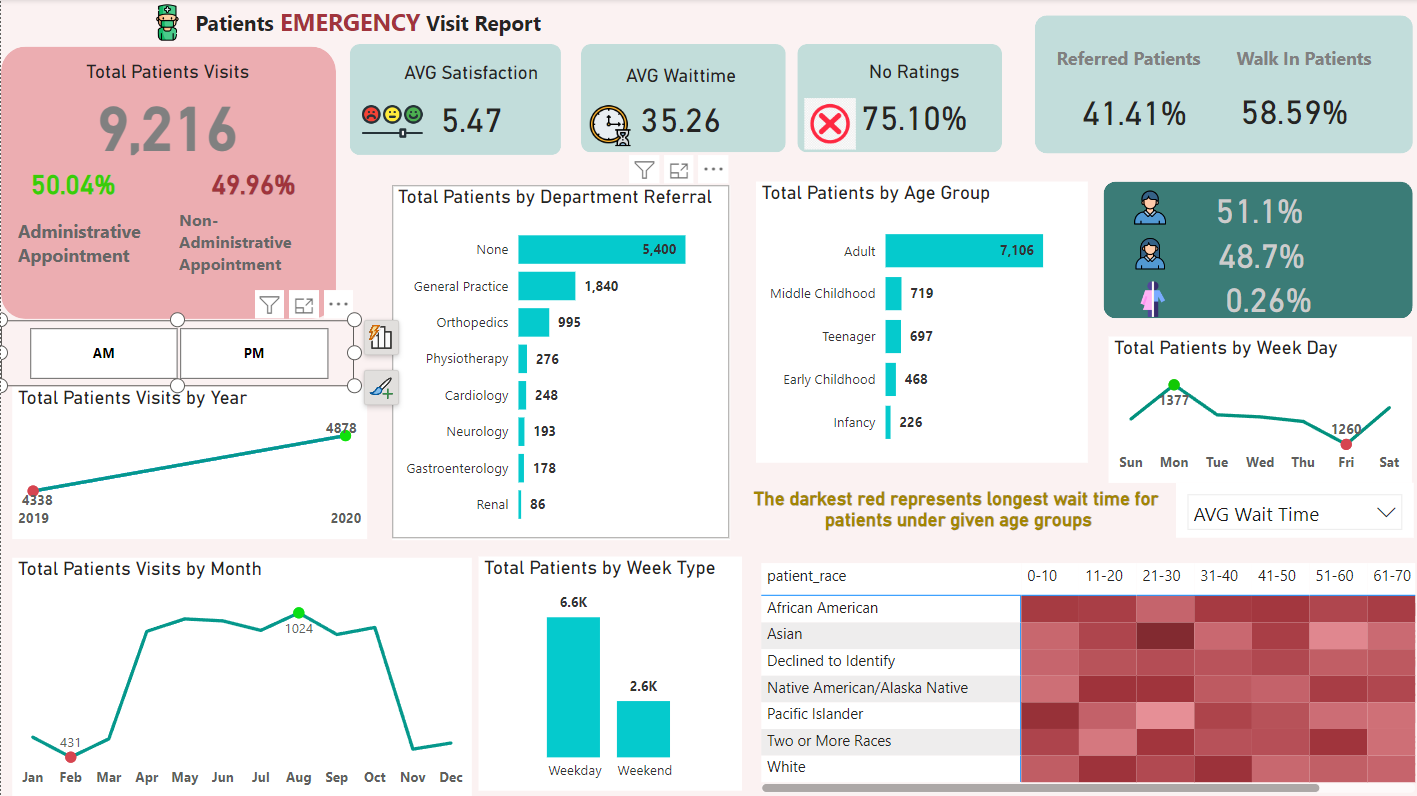

This screenshot's page, from the dashboard's own definition file:
{"tool":"powerbi","page":{"name":"Page 1","canvas":[1280,720],"ordinal":0},"visuals":[{"type":"shape","box":[0,42.8,302,245.8],"z":0},{"type":"shape","box":[931.8,14.7,341.2,124.7],"z":1000},{"type":"shape","box":[314.3,40.4,190.8,100.3],"z":2000},{"type":"shape","box":[523.4,40.4,184.6,97.8],"z":3000},{"type":"shape","box":[717.8,40.4,184.6,97.8],"z":4000},{"type":"card","title":"Total Patients Visits","fields":{"Values":["Calculations.Total Patients"]},"box":[9.8,55,280,90.5],"z":5000},{"type":"card","fields":{"Values":["Calculations.Administrative Appointment"]},"box":[0,137,129.6,58.7],"z":6000},{"type":"pivotTable","fields":{"Values":["Calculations.AVG Wait Time"],"Rows":["Hospital ER.patient_race"],"Columns":["Hospital ER.Age Bracket"]},"box":[680.6,503.6,599.7,216.8],"z":7000},{"type":"slicer","fields":{"Values":["Parameter.Parameter"]},"box":[1059.4,436.4,214.1,49.4],"z":8000},{"type":"clusteredBarChart","title":"Total Patients by Department Referral","fields":{"Y":["Calculations.Total Patients"],"Category":["Hospital ER.department_referral"]},"box":[352.7,167.4,304.6,319.7],"z":9000},{"type":"clusteredBarChart","fields":{"Category":["Hospital ER.Age Group"],"Y":["Calculations.Total Patients"]},"box":[680.6,164.7,299.1,253.9],"z":10000},{"type":"lineChart","title":"Total Patients Visits by Month","fields":{"Category":["Date Table.Month"],"Y":["Calculations.Total Patients","Calculations.Values Max/Min Points (Month)"]},"box":[9.6,503.6,414.4,216.8],"z":11000},{"type":"card","title":"AVG Satisfaction","fields":{"Values":["Calculations.AVG Satisfaction"]},"box":[329.3,56.3,189.4,83.7],"z":12000,"group":"g1"},{"type":"lineChart","title":"Total Patients Visits by Year","fields":{"Y":["Calculations.Total Patients","Calculations.Values Max/Min Points (Year)"],"Category":["Date Table.Year"]},"box":[9.6,349.9,319.7,137.2],"z":12000},{"type":"card","title":"AVG Waittime","fields":{"Values":["Calculations.AVG Wait Time"]},"box":[518.7,59,189.4,78.2],"z":13000,"group":"g2"},{"type":"card","fields":{"Values":["Calculations.HeatMap Caption"]},"box":[647.7,418.5,430.9,83.7],"z":13000},{"type":"card","title":"No Ratings","fields":{"Values":["Calculations.Service not rated"]},"box":[727.8,55.7,190.8,81.9],"z":14000,"group":"g3"},{"type":"card","fields":{"Values":["Calculations.Non-Administrative Appointment"]},"box":[176.1,137,103.9,58.7],"z":14000},{"type":"image","box":[314.2,68.6,76.8,83.7],"z":15000,"group":"g1"},{"type":"textbox","box":[9.8,193.2,129.6,62.4],"z":15000},{"type":"image","box":[518.7,89.2,61.7,50.8],"z":16000,"group":"g2"},{"type":"textbox","box":[155.3,183.4,146.7,72.1],"z":16000},{"type":"textbox","box":[946.8,37,152.3,41.2],"z":17000},{"type":"image","box":[717.8,84.9,59,56.3],"z":17000,"group":"g3"},{"type":"card","fields":{"Values":["Calculations.Referred Patients"]},"box":[966,75.5,112.5,52.1],"z":18000},{"type":"textbox","box":[1108.8,37,142.7,41.2],"z":19000},{"type":"card","fields":{"Values":["Calculations.Walk In Patients"]},"box":[1108.8,71.4,113.9,59],"z":20000},{"type":"columnChart","fields":{"Y":["Calculations.Total Patients"],"Category":["Date Table.Week Type"]},"box":[430.9,502.2,237.4,211.3],"z":21000},{"type":"slicer","fields":{"Values":["Hospital ER.Moment"]},"box":[0,289.8,319.2,59.9],"z":22000},{"type":"group","id":"g1","title":"Group 1","box":[314.2,56.3,204.5,96.1],"z":23000},{"type":"group","id":"g2","title":"Group 2","box":[518.7,59,189.4,81],"z":24000},{"type":"group","id":"g3","title":"Group 3","box":[717.8,55.7,200.8,85.5],"z":25000},{"type":"image","box":[0,0,299.6,42.8],"z":26000},{"type":"textbox","box":[170,1.2,379.1,41.6],"z":27000},{"type":"shape","box":[994.2,165.1,278.8,123.5],"z":28000},{"type":"image","box":[994.2,166.3,84.4,42.8],"z":29000},{"type":"image","box":[999.1,209.1,75.8,40.4],"z":30000},{"type":"image","box":[1017.4,249.5,41.6,42.8],"z":31000},{"type":"card","fields":{"Values":["Calculations.Male %"]},"box":[1076.1,168.8,116.2,40.4],"z":32000},{"type":"card","fields":{"Values":["Calculations.Female %"]},"box":[1078.5,209.1,116.2,41.6],"z":33000},{"type":"card","fields":{"Values":["Calculations.Gender Unknown"]},"box":[1090.8,247,103.9,45.2],"z":34000},{"type":"lineChart","title":"Total Patients by Week Day","fields":{"Category":["Date Table.Week Day"],"Y":["Calculations.Total Patients","Calculations.Values Max/Min Points (day)"]},"box":[999.1,304.5,273.9,132.1],"z":35000}]}

Visuals, with their boxes in screenshot pixels (x1, y1, x2, y2), scaled from the page's 1280x720 canvas onto the 1417x796 screenshot:
shape: <bbox>0, 47, 334, 319</bbox>
shape: <bbox>1032, 16, 1409, 154</bbox>
shape: <bbox>348, 45, 559, 156</bbox>
shape: <bbox>579, 45, 784, 153</bbox>
shape: <bbox>795, 45, 999, 153</bbox>
"Total Patients Visits" card: <bbox>11, 61, 321, 161</bbox>
card - Calculations.Administrative Appointment: <bbox>0, 151, 143, 216</bbox>
pivotTable - Calculations.AVG Wait Time x Hospital ER.patient_race: <bbox>753, 557, 1416, 795</bbox>
slicer - Parameter.Parameter: <bbox>1173, 482, 1410, 537</bbox>
"Total Patients by Department Referral" clusteredBarChart: <bbox>390, 185, 728, 539</bbox>
clusteredBarChart - Hospital ER.Age Group x Calculations.Total Patients: <bbox>753, 182, 1085, 463</bbox>
"Total Patients Visits by Month" lineChart: <bbox>11, 557, 469, 795</bbox>
"AVG Satisfaction" card: <bbox>365, 62, 574, 155</bbox>
"Total Patients Visits by Year" lineChart: <bbox>11, 387, 365, 539</bbox>
"AVG Waittime" card: <bbox>574, 65, 784, 152</bbox>
card - Calculations.HeatMap Caption: <bbox>717, 463, 1194, 555</bbox>
"No Ratings" card: <bbox>806, 62, 1017, 152</bbox>
card - Calculations.Non-Administrative Appointment: <bbox>195, 151, 310, 216</bbox>
image: <bbox>348, 76, 433, 168</bbox>
textbox: <bbox>11, 214, 154, 283</bbox>
image: <bbox>574, 99, 643, 155</bbox>
textbox: <bbox>172, 203, 334, 282</bbox>
textbox: <bbox>1048, 41, 1217, 86</bbox>
image: <bbox>795, 94, 860, 156</bbox>
card - Calculations.Referred Patients: <bbox>1069, 83, 1194, 141</bbox>
textbox: <bbox>1227, 41, 1385, 86</bbox>
card - Calculations.Walk In Patients: <bbox>1227, 79, 1354, 144</bbox>
columnChart - Calculations.Total Patients x Date Table.Week Type: <bbox>477, 555, 740, 789</bbox>
slicer - Hospital ER.Moment: <bbox>0, 320, 353, 387</bbox>
"Group 1" group: <bbox>348, 62, 574, 168</bbox>
"Group 2" group: <bbox>574, 65, 784, 155</bbox>
"Group 3" group: <bbox>795, 62, 1017, 156</bbox>
image: <bbox>0, 0, 332, 47</bbox>
textbox: <bbox>188, 1, 608, 47</bbox>
shape: <bbox>1101, 183, 1409, 319</bbox>
image: <bbox>1101, 184, 1194, 231</bbox>
image: <bbox>1106, 231, 1190, 276</bbox>
image: <bbox>1126, 276, 1172, 323</bbox>
card - Calculations.Male %: <bbox>1191, 187, 1320, 231</bbox>
card - Calculations.Female %: <bbox>1194, 231, 1323, 277</bbox>
card - Calculations.Gender Unknown: <bbox>1208, 273, 1323, 323</bbox>
"Total Patients by Week Day" lineChart: <bbox>1106, 337, 1409, 483</bbox>
